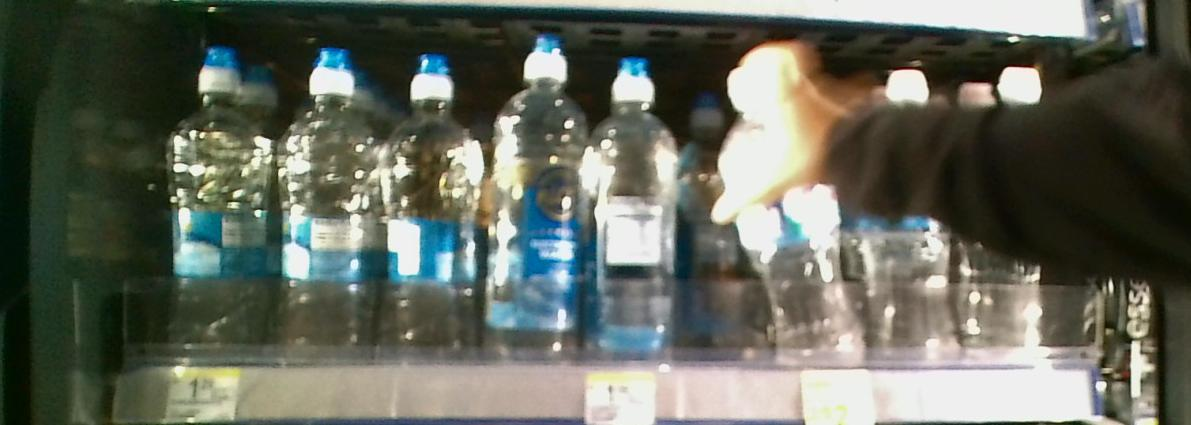bottle: (383, 38, 485, 368), (491, 35, 586, 367), (167, 44, 268, 354), (280, 44, 377, 365), (593, 53, 679, 367)
